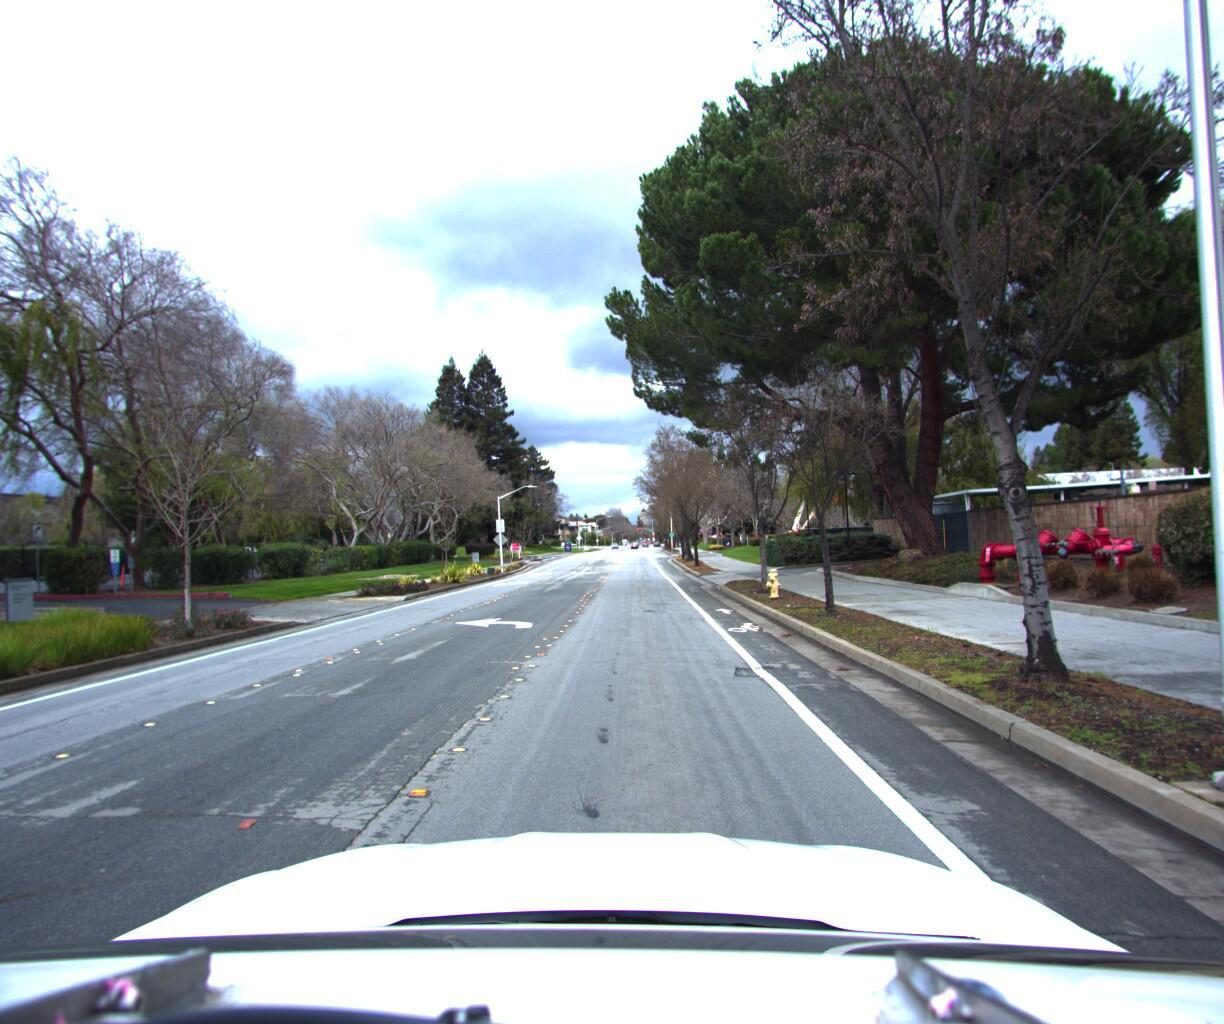other_vehicle: (763, 455, 824, 543), (770, 484, 852, 543)
